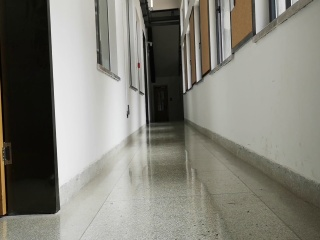room: (1, 2, 62, 217)
